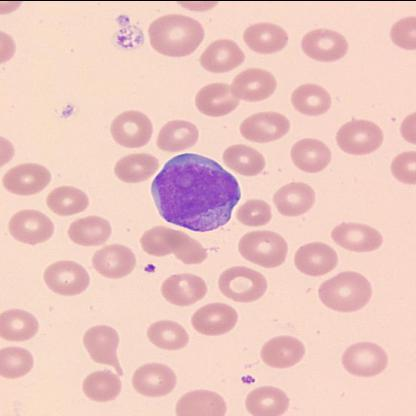Promyelocyte: (148, 153, 240, 231)
